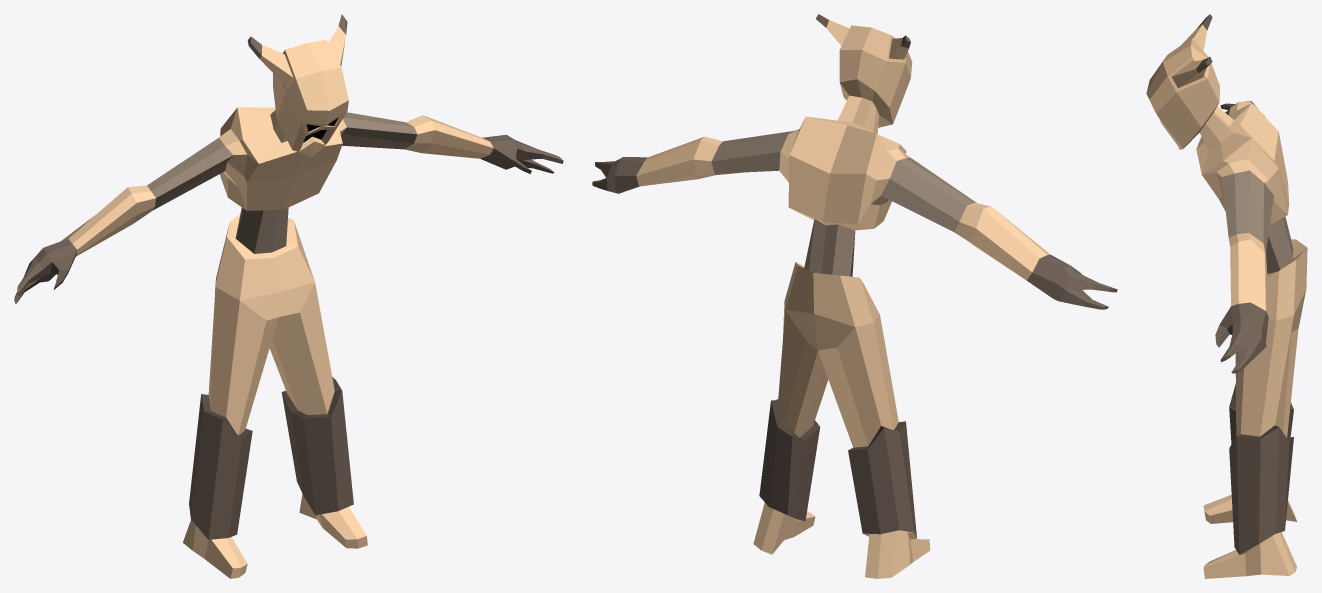
The model's file is ghoul.obj.
The picture shows the model from 3 angles, left to right: view 1: azimuth 30°, elevation 25°; view 2: azimuth 150°, elevation 25°; view 3: azimuth 270°, elevation 25°; orthographic projection. The views are drawn at different scales.
Visible parts, largest first — view 1: Cube; view 2: Cube; view 3: Cube.
Part boxes in pixels (x1,y1,x2,y2): Cube: (14,14,563,578); Cube: (592,14,1117,578); Cube: (1146,14,1307,578).
Size of the model in its own units: 8.27 by 7.77 by 2.21.
